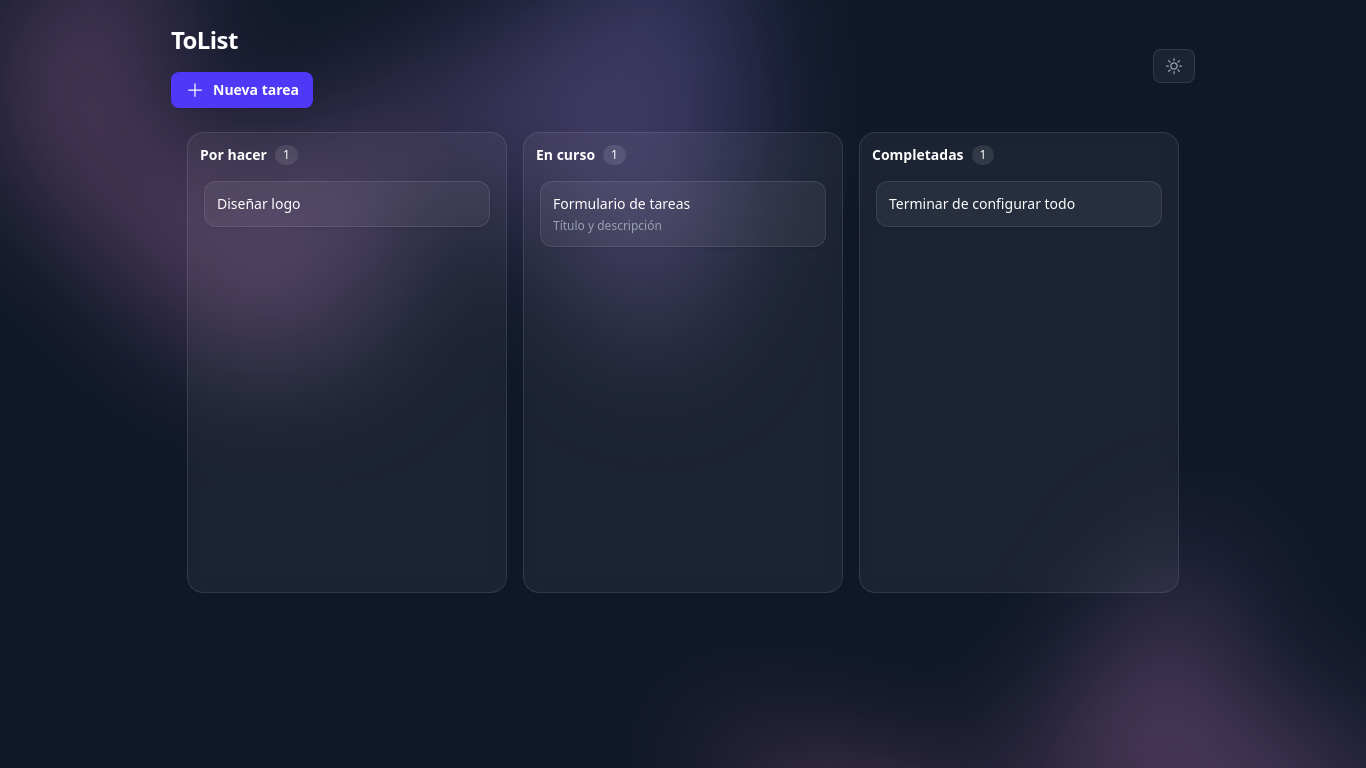
Scenario: App main flows › edits an existing task
Click the list item "Diseñar logo": (259, 204) [204,181,490,227]
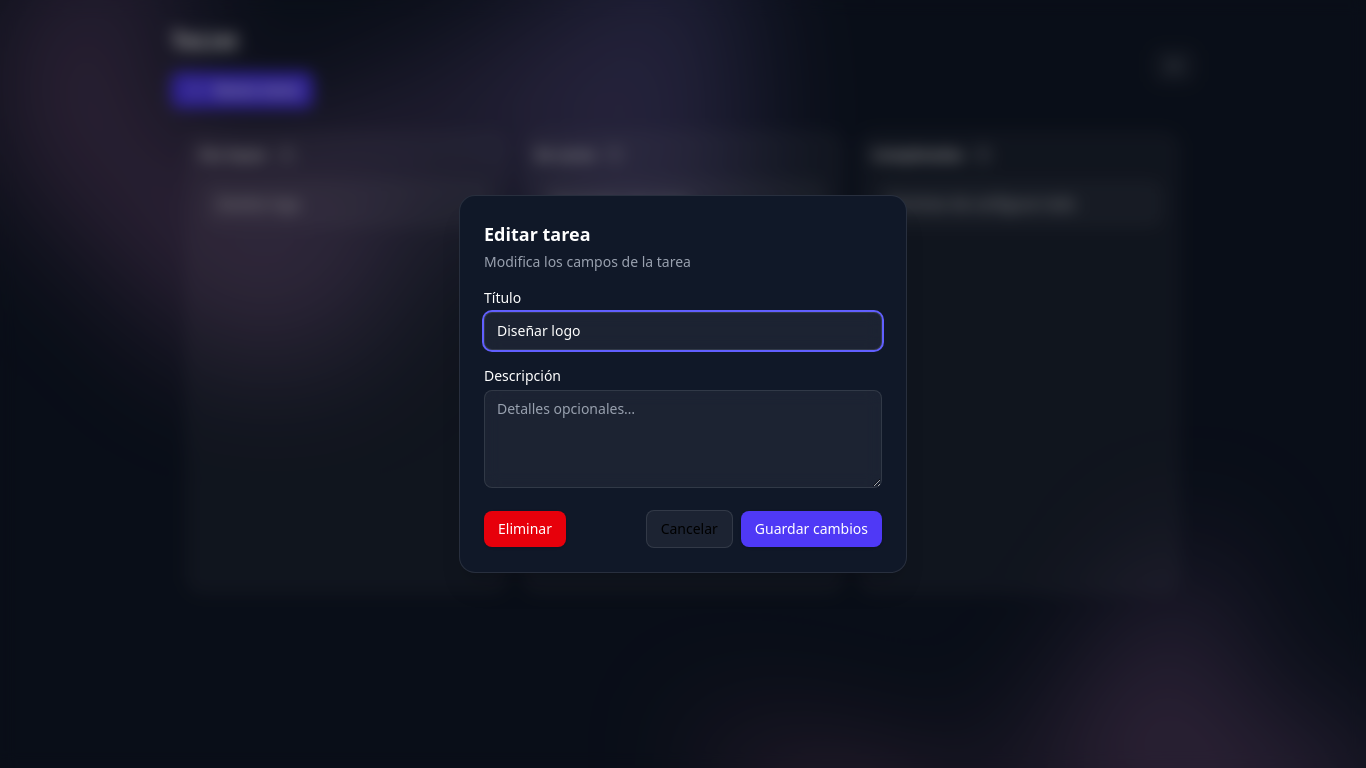
Replace the text in the field labelled "Título" with "Diseñar logo v2": (683, 331) [484,312,882,350]
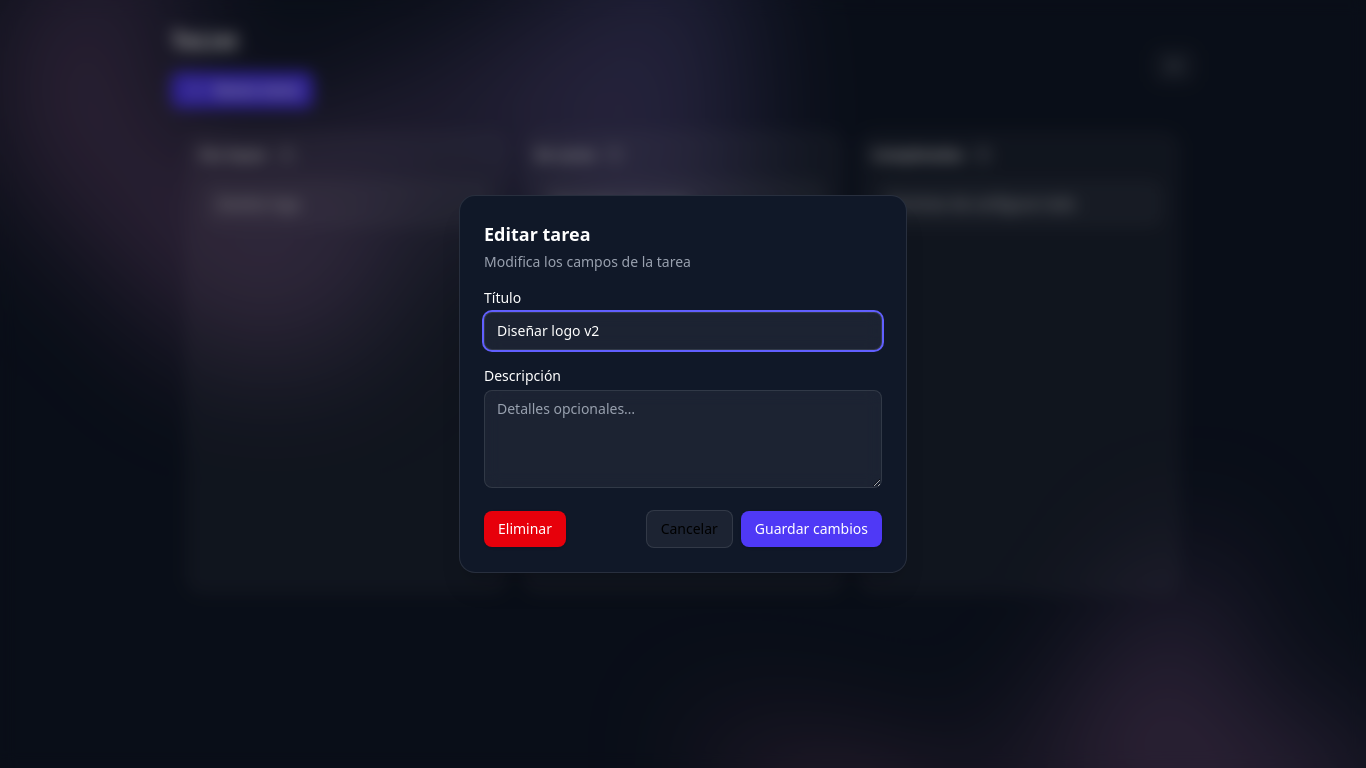
In the text box labelled "Descripción": (683, 439) [484,390,882,488], type "Usar nuevos colores"
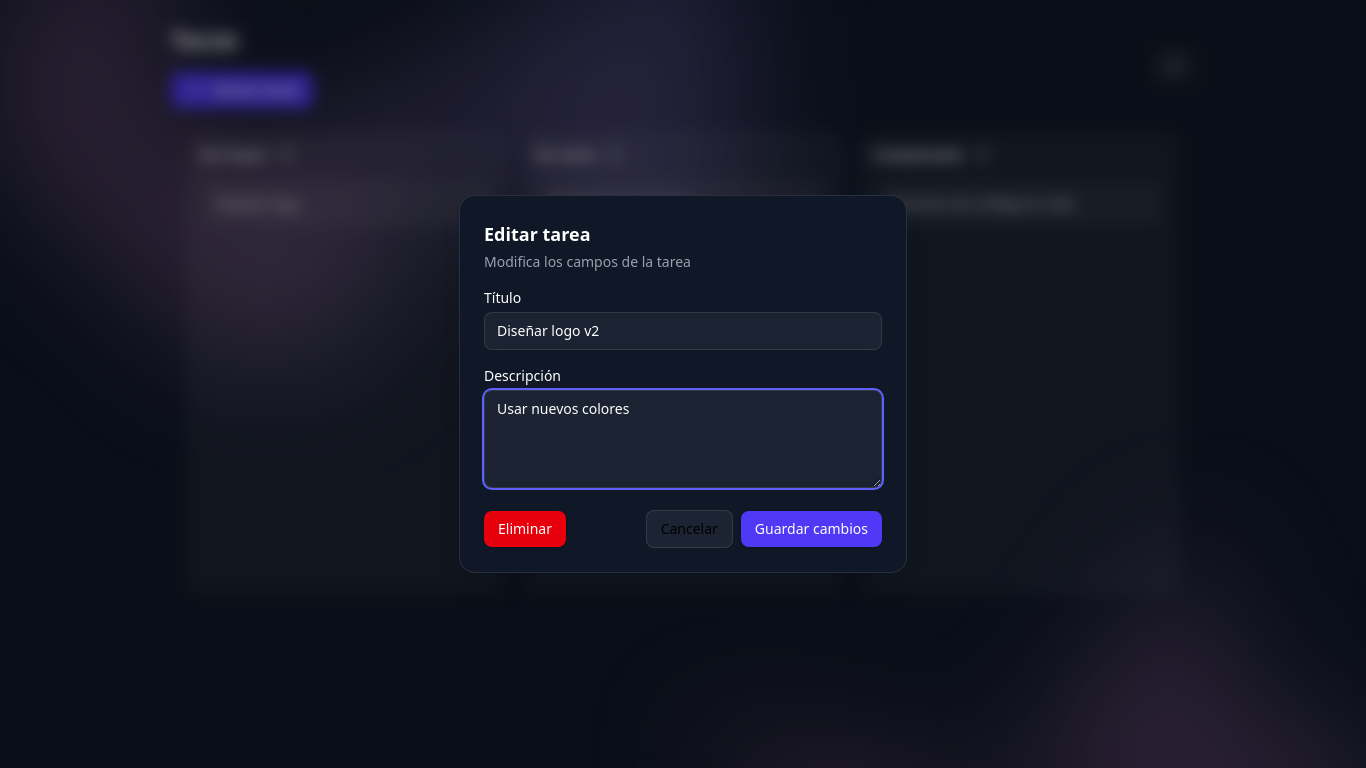
Click the button "Guardar cambios": (811, 529) [741,511,882,547]
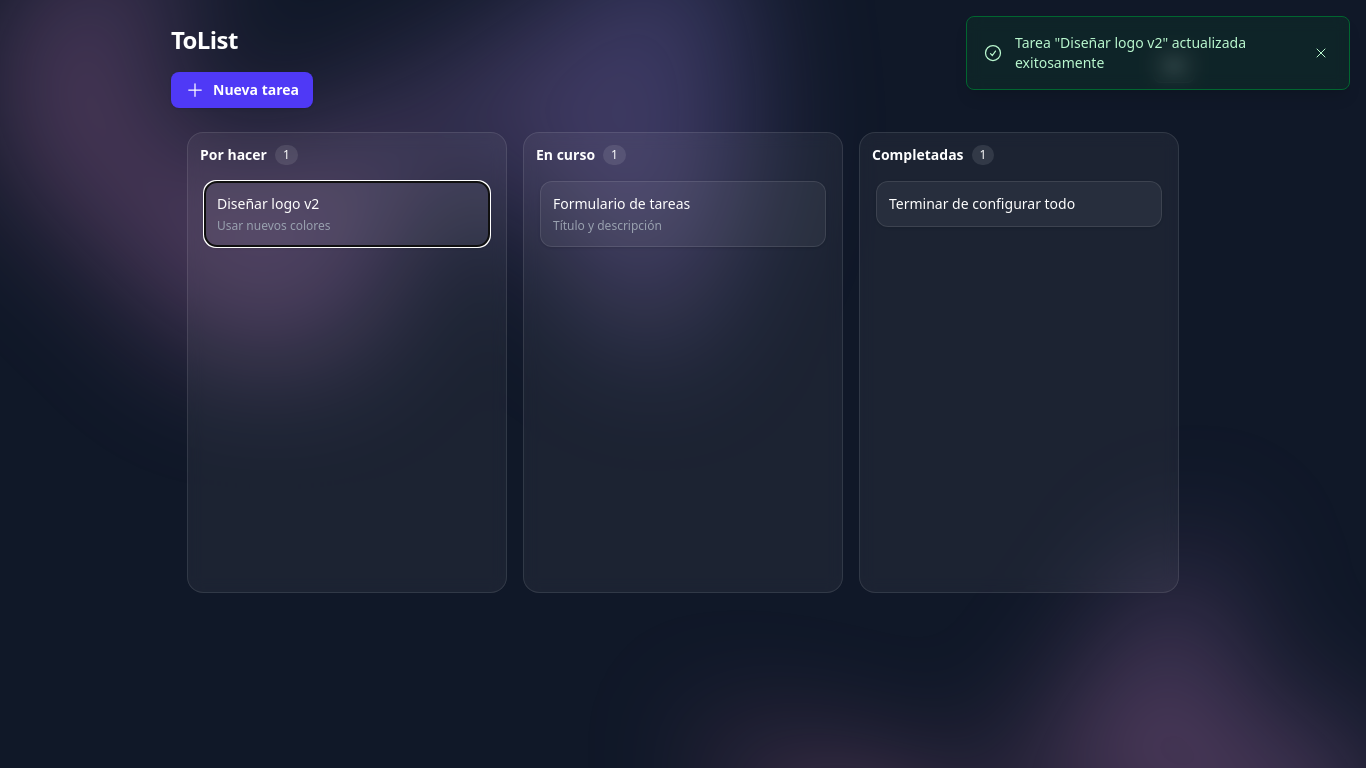
Expected: the text "Diseñar logo v2" is shown, [217,194,319,213]
